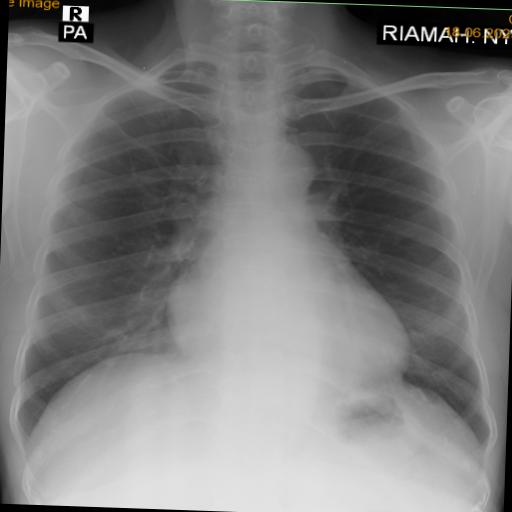kardiomegali: (1, 33, 512, 466)
